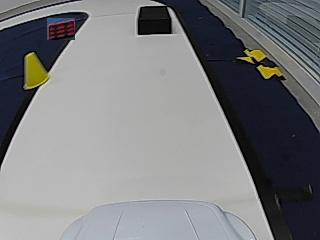block: (137, 6, 172, 35)
cone: (23, 52, 50, 88)
